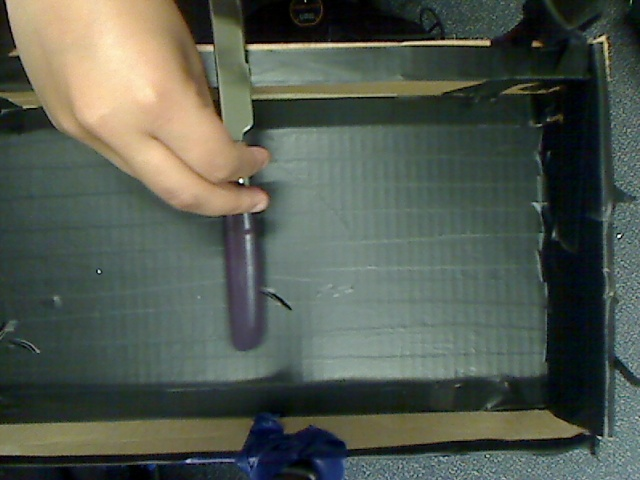knife: (190, 1, 284, 350)
